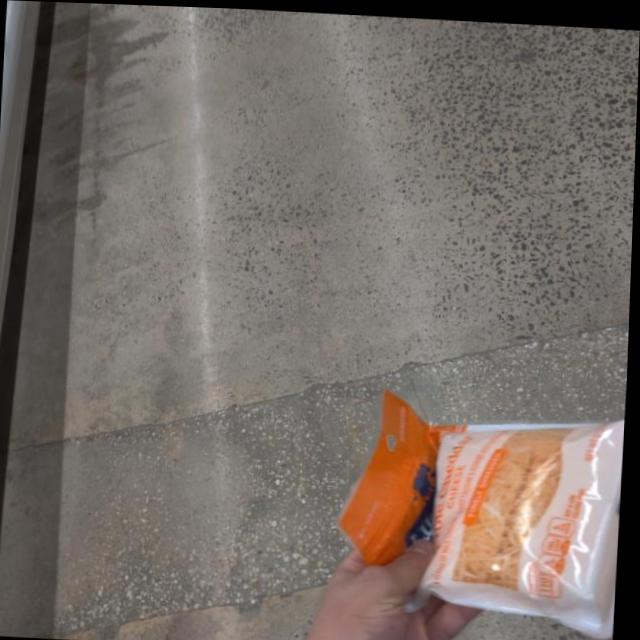Cheese: (331, 385, 628, 633)
